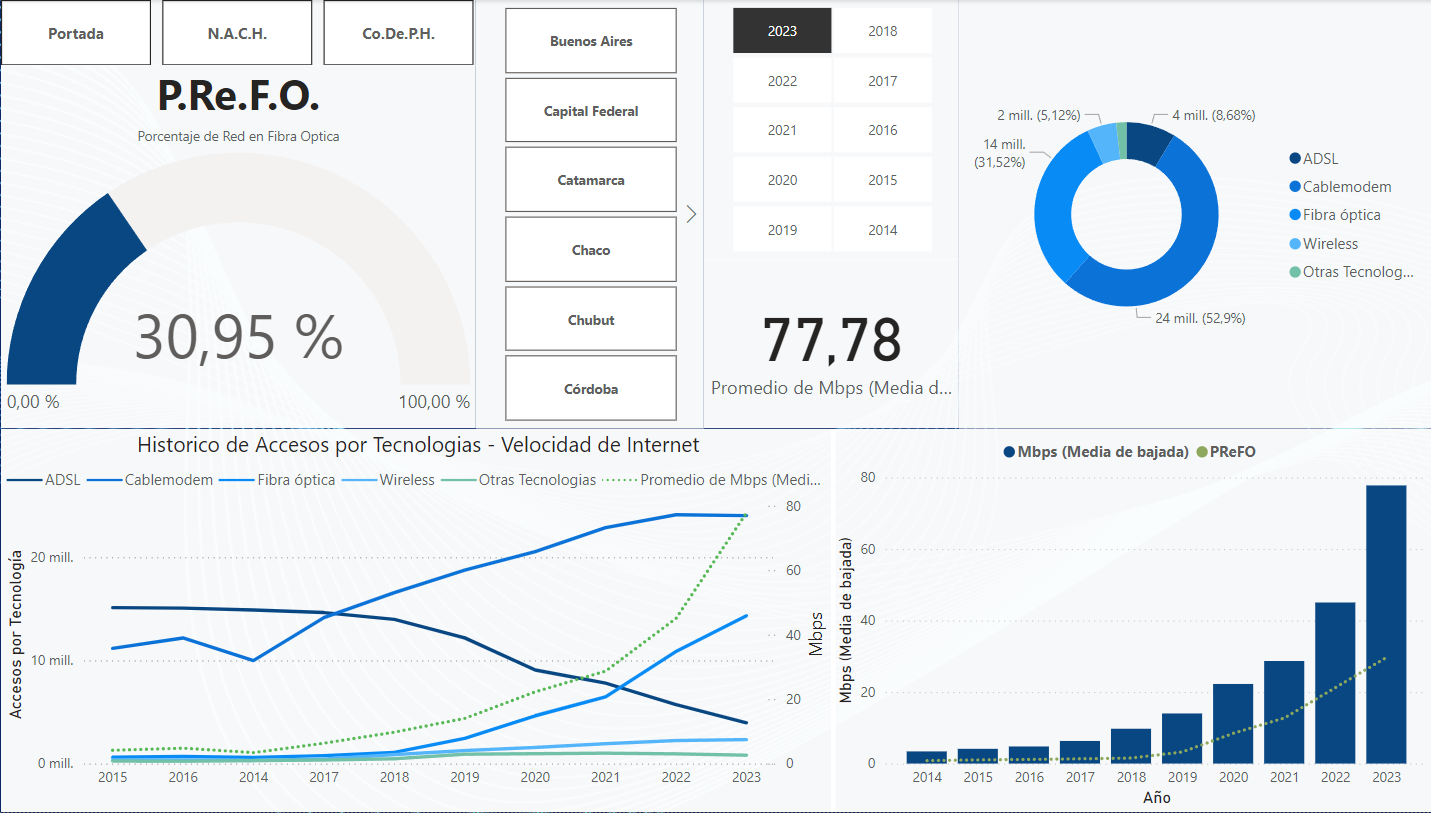

The page's visual inventory and layout, read from the dashboard file:
{"tool":"powerbi","page":{"name":"P.Re.F.O.","canvas":[1280,720],"ordinal":3},"visuals":[{"type":"pageNavigator","box":[10,0,421,58],"z":1},{"type":"gauge","title":"P.Re.F.O.","fields":{"Y":["Avg(EDA.Porcentaje Fibra Óptica (PReFO))"]},"box":[10,58,421,322],"z":2},{"type":"lineChart","title":"Historico de Accesos por Tecnologias - Velocidad de Internet","fields":{"Category":["EDA.Año"],"Y":["Sum(EDA.ADSL)","Sum(EDA.Cablemodem)","Sum(EDA.Fibra óptica)","Sum(EDA.Wireless)","Sum(EDA.Otras Tecnologias)"],"Y2":["Avg(EDA.Mbps (Media de bajada))"]},"box":[10,380,740,340],"z":3},{"type":"donutChart","fields":{"Y":["Sum(EDA.ADSL)","Sum(EDA.Cablemodem)","Sum(EDA.Fibra óptica)","Sum(EDA.Wireless)","Sum(EDA.Otras Tecnologias)"]},"box":[859,0,421,380],"z":4},{"type":"card","fields":{"Values":["Avg(EDA.Mbps (Media de bajada))"]},"box":[633,230,226,150],"z":5},{"type":"slicer","fields":{"Values":["EDA.Año"]},"box":[633,0,226,230],"z":6},{"type":"slicer","fields":{"Values":["EDA.Provincia"]},"box":[431,0,202,380],"z":7},{"type":"lineStackedColumnComboChart","fields":{"Category":["EDA.Año"],"Y":["Avg(EDA.Mbps (Media de bajada))"],"Y2":["Sum(EDA.Porcentaje Fibra Óptica (PReFO))"]},"box":[746,380,534,340],"z":8}]}

Visuals, with their boxes in screenshot pixels (x1, y1, x2, y2), scaled from the page's 1280x720 canvas onto the 1431x813 screenshot:
pageNavigator: region(11, 0, 482, 65)
"P.Re.F.O." gauge: region(11, 65, 482, 429)
"Historico de Accesos por Tecnologias - Velocidad de Internet" lineChart: region(11, 429, 838, 812)
donutChart - Sum(EDA.ADSL) x Sum(EDA.Cablemodem): region(960, 0, 1430, 429)
card - Avg(EDA.Mbps (Media de bajada)): region(708, 260, 960, 429)
slicer - EDA.Año: region(708, 0, 960, 260)
slicer - EDA.Provincia: region(482, 0, 708, 429)
lineStackedColumnComboChart - EDA.Año x Avg(EDA.Mbps (Media de bajada)): region(834, 429, 1430, 812)
